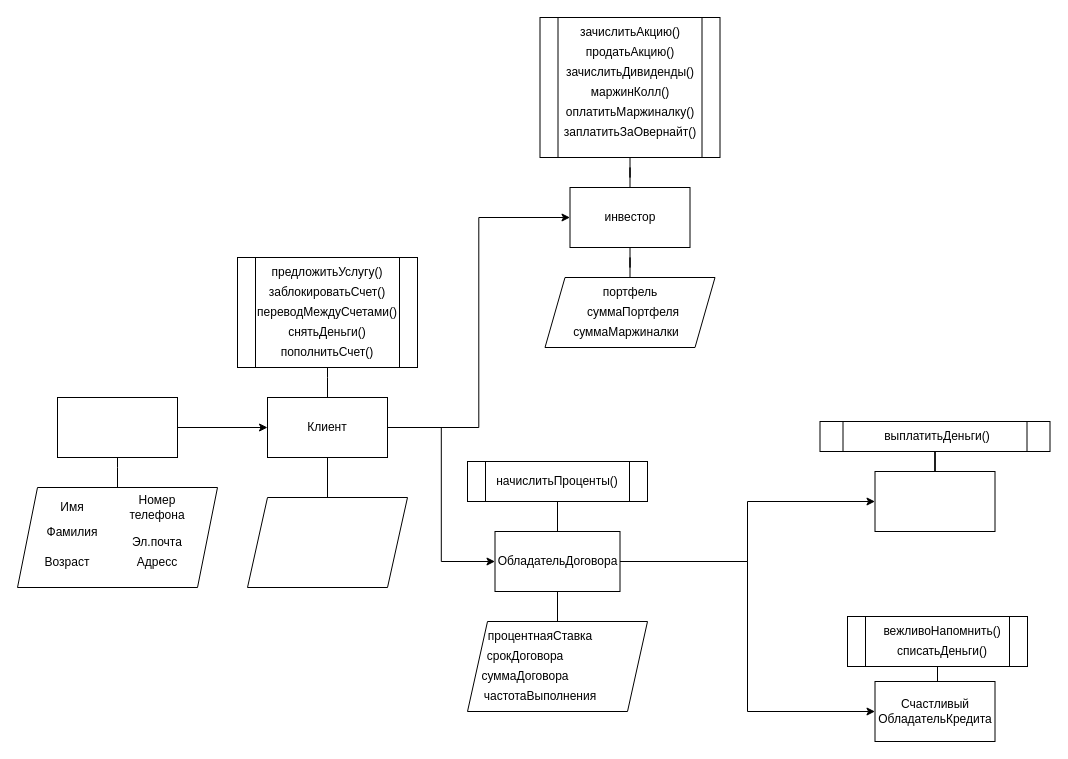
The diagram is 1068 pixels wide and 759 high, and some of its shapes have lost their labels. The shapes that lost their labels are listed below. From the top down, each one's box as (x1, y1, x2, y2) in pixels, then its label:
(56, 396, 178, 458): Человек
(874, 470, 995, 532): ОбладательВклада
(246, 496, 408, 588): счета
